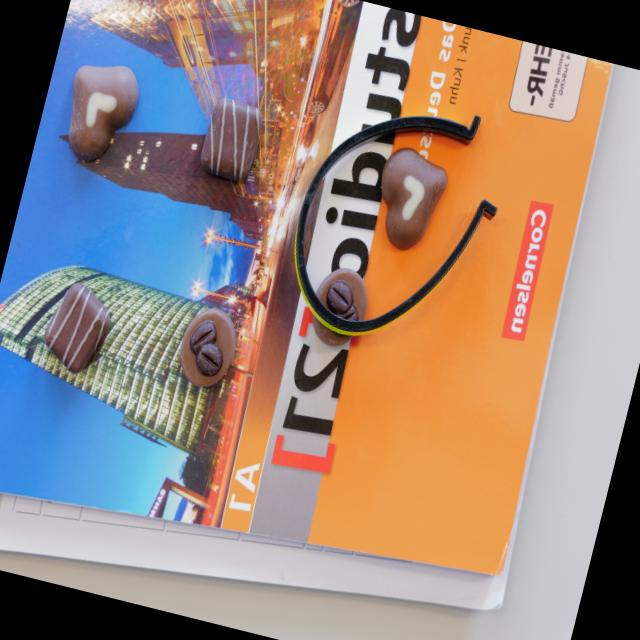Arabia: (172, 302, 245, 394), (305, 263, 374, 352)
Passion_au_lait: (55, 56, 146, 168), (366, 142, 453, 255)
Stracciatella: (38, 277, 118, 378), (194, 94, 269, 186)
